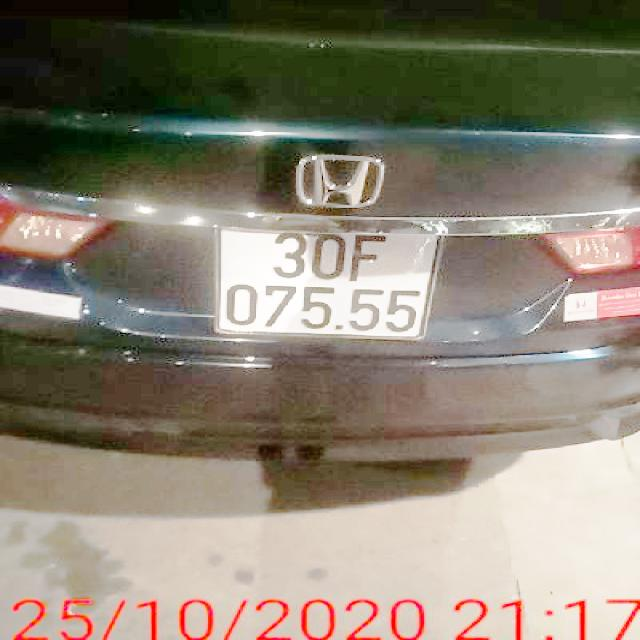license_plate: (218, 227, 442, 336)
